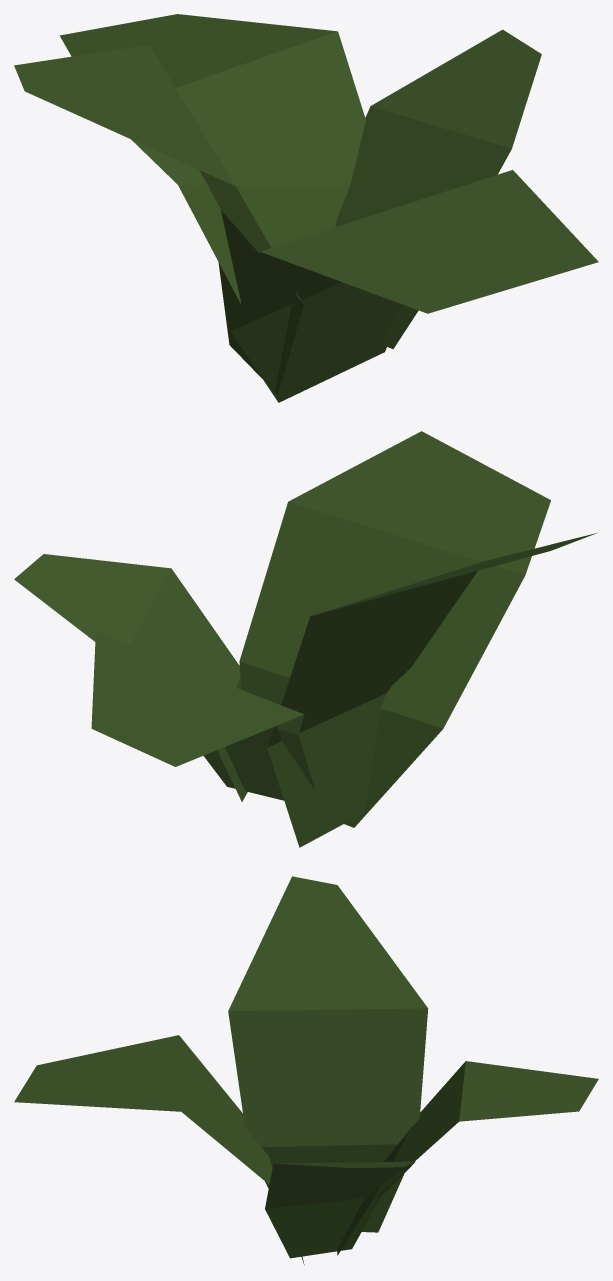
File: plant3.fbx
The picture shows the model from 3 angles, top to bottom: view 1: azimuth 30°, elevation 25°; view 2: azimuth 150°, elevation 25°; view 3: azimuth 270°, elevation 25°; orthographic projection. The views are drawn at different scales.
Visible parts, largest first — view 1: Plane.019; view 2: Plane.019; view 3: Plane.019.
Boxes of the visible parts, x1=… form: Plane.019: x1=14, y1=14, x2=598, y2=402; Plane.019: x1=14, y1=431, x2=596, y2=847; Plane.019: x1=14, y1=876, x2=598, y2=1265.
Size of the model in its own units: 87.97 by 56.99 by 110.
